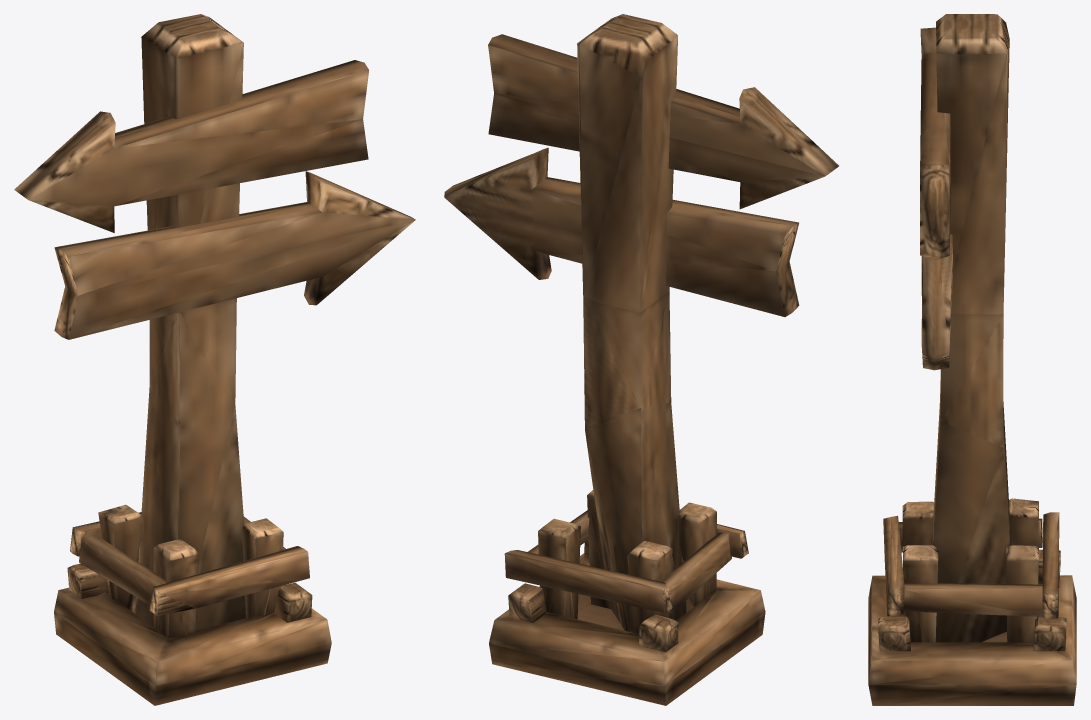
File: prop_signpost.glb
3 renders of one model, left to right at view 1: azimuth 30°, elevation 25°; view 2: azimuth 150°, elevation 25°; view 3: azimuth 270°, elevation 25°, orthographic. The views are drawn at different scales.
Bounding box in the file's own units: 1.51 × 2.3 × 0.6794.
1 material, 1 textured.
